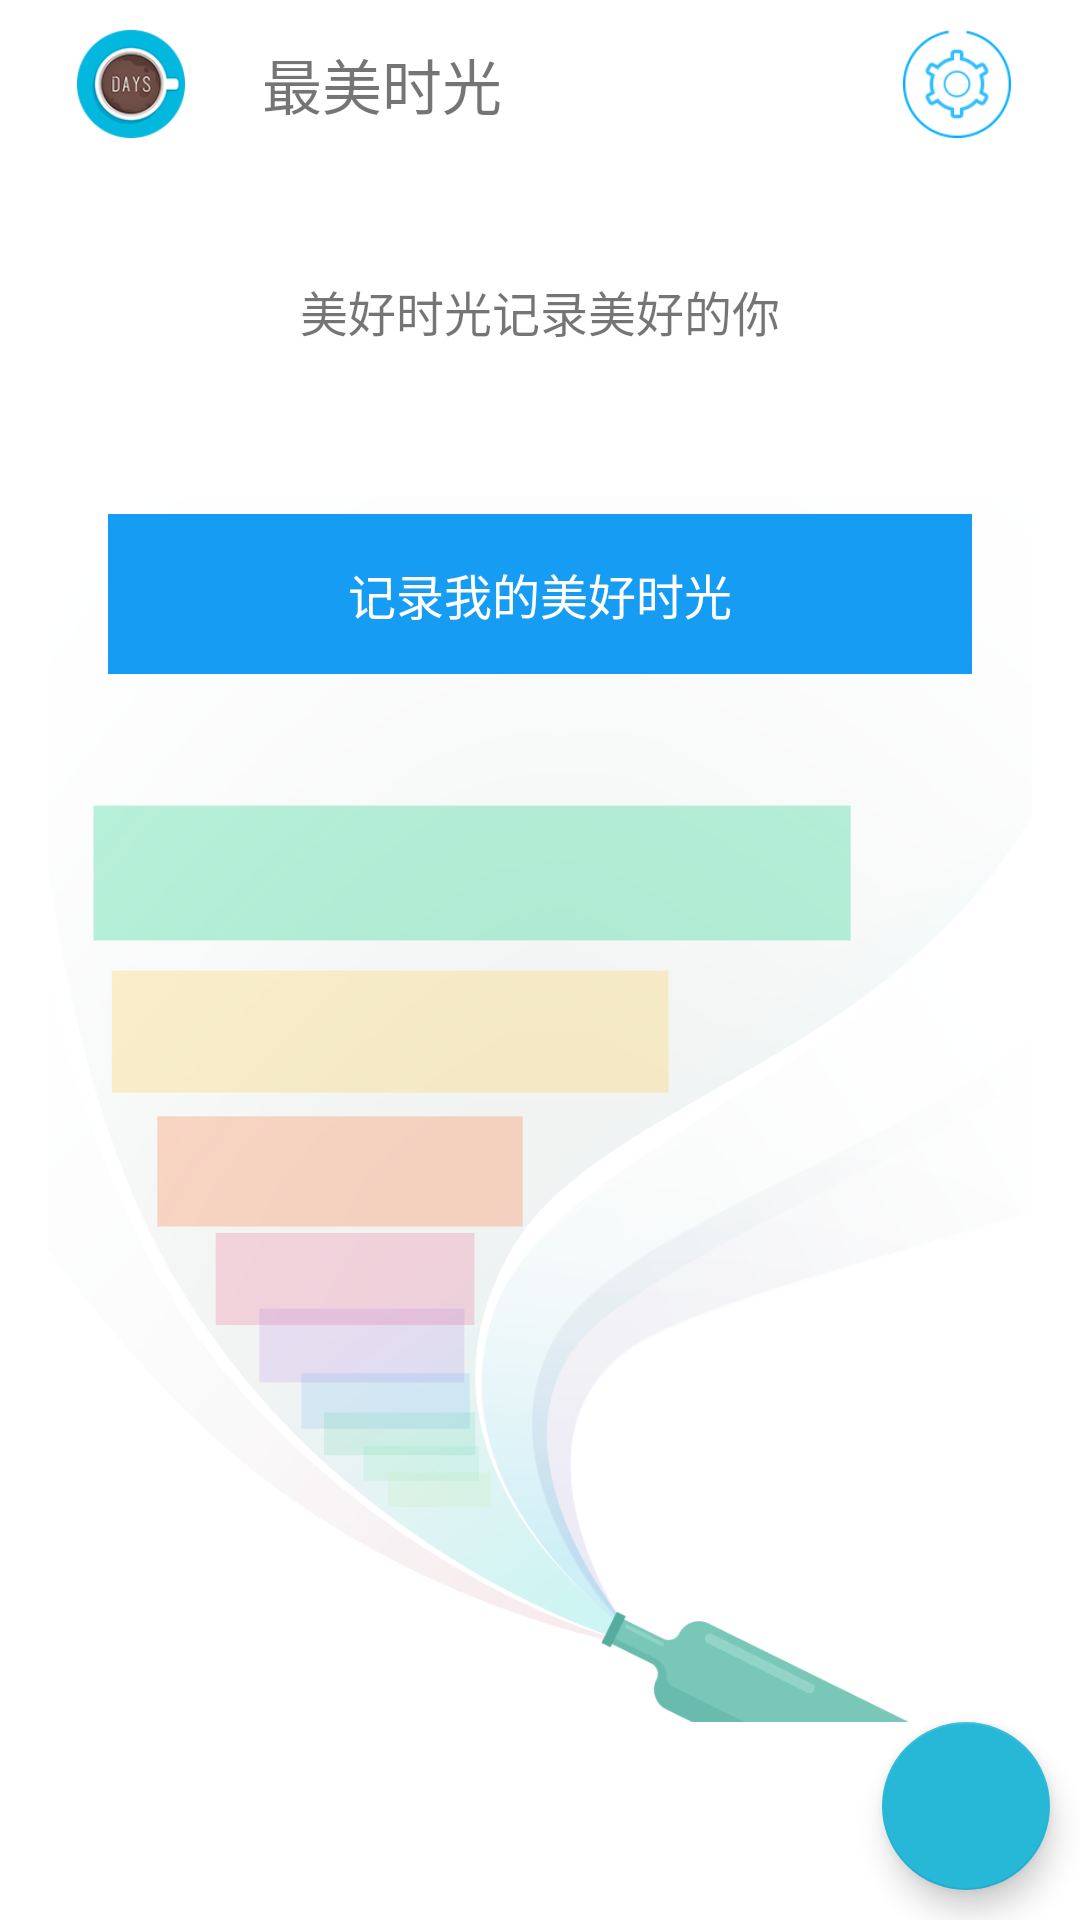

Icons on this 1080×1920 Android screen, each with the point to tap as [x,y]:
days common setting: [957,84]
